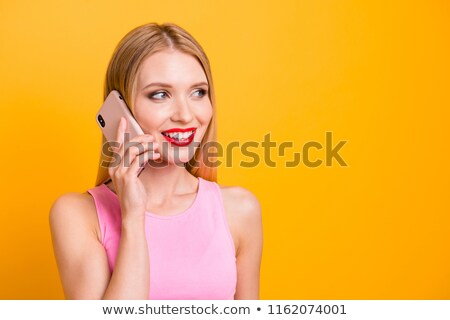phone: (91, 93, 150, 169)
talk: (93, 75, 213, 203)
